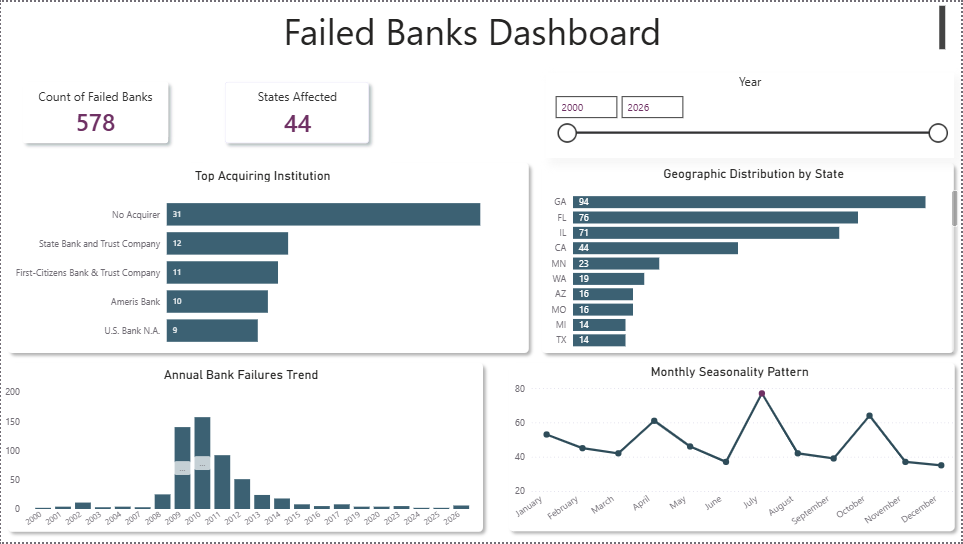

This screenshot's page, from the dashboard's own definition file:
{"tool":"powerbi","page":{"name":"Overview","canvas":[1280,720],"ordinal":0},"visuals":[{"type":"shape","box":[667.5,472.5,612.5,242.5],"z":1000},{"type":"shape","box":[0,471.7,651.7,243.3],"z":2000},{"type":"shape","box":[0,205.1,712.6,271.7],"z":2500},{"type":"shape","box":[712.6,205.1,567.4,271.7],"z":2750},{"type":"barChart","title":"Geographic Distribution by State","fields":{"Category":["Failed Banks.State "],"Y":["CountNonNull(Failed Banks.Bank Name )"]},"box":[726,218,554,254],"z":3000},{"type":"lineStackedColumnComboChart","title":"Annual Bank Failures Trend","fields":{"Category":["Calendar.Date.Variation.Date Hierarchy.Year","Calendar.Date.Variation.Date Hierarchy.Month"],"Y":["CountNonNull(Failed Banks.Bank Name )"]},"box":[0,480,640,240],"z":4000},{"type":"lineChart","title":"Monthly Seasonality Pattern","fields":{"Category":["Calendar.Month"],"Y":["CountNonNull(Failed Banks.Bank Name )"]},"box":[665,480,612.5,240],"z":5000},{"type":"textbox","box":[0,0,1264.3,70.6],"z":6000},{"type":"cardVisual","fields":{"Data":["Count(Failed Banks.State )"]},"box":[268.8,77.5,250,140],"z":7000},{"type":"slicer","title":"Year","fields":{"Values":["Calendar.Year"]},"box":[727.2,95,544.3,113.8],"z":8000},{"type":"clusteredBarChart","title":"Top Acquiring Institution ","fields":{"Category":["Failed Banks.Acquiring Institution "],"Y":["CountNonNull(Failed Banks.Bank Name )"]},"box":[0,218,698,254],"z":9000},{"type":"cardVisual","fields":{"Data":["_measuress.Count of Failed Banks"]},"box":[0,77.5,252.5,140],"z":10000}]}

Visuals, with their boxes in screenshot pixels (x1, y1, x2, y2), scaled from the page's 1280x720 canvas onto the 963x544 screenshot:
shape: BBox(502, 357, 962, 540)
shape: BBox(0, 356, 490, 540)
shape: BBox(0, 155, 536, 360)
shape: BBox(536, 155, 962, 360)
"Geographic Distribution by State" barChart: BBox(546, 165, 962, 357)
"Annual Bank Failures Trend" lineStackedColumnComboChart: BBox(0, 363, 482, 543)
"Monthly Seasonality Pattern" lineChart: BBox(500, 363, 961, 543)
textbox: BBox(0, 0, 951, 53)
cardVisual - Count(Failed Banks.State ): BBox(202, 59, 390, 164)
"Year" slicer: BBox(547, 72, 957, 158)
"Top Acquiring Institution " clusteredBarChart: BBox(0, 165, 525, 357)
cardVisual - _measuress.Count of Failed Banks: BBox(0, 59, 190, 164)
